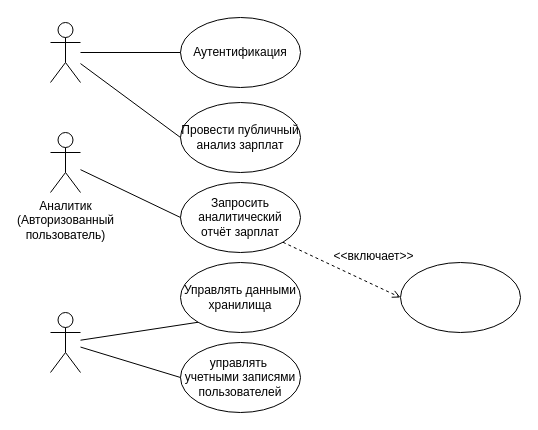
Image size: 538x430. Some labels were removed from this diagram. The shapes that lost their labels are listed below. From the top down, each one's centre as x and y in pixels, then its label:
point (65, 52): Гостевой пользователь
point (460, 297): Задать параметры для фильтрации зарплат
point (65, 342): Администратор
